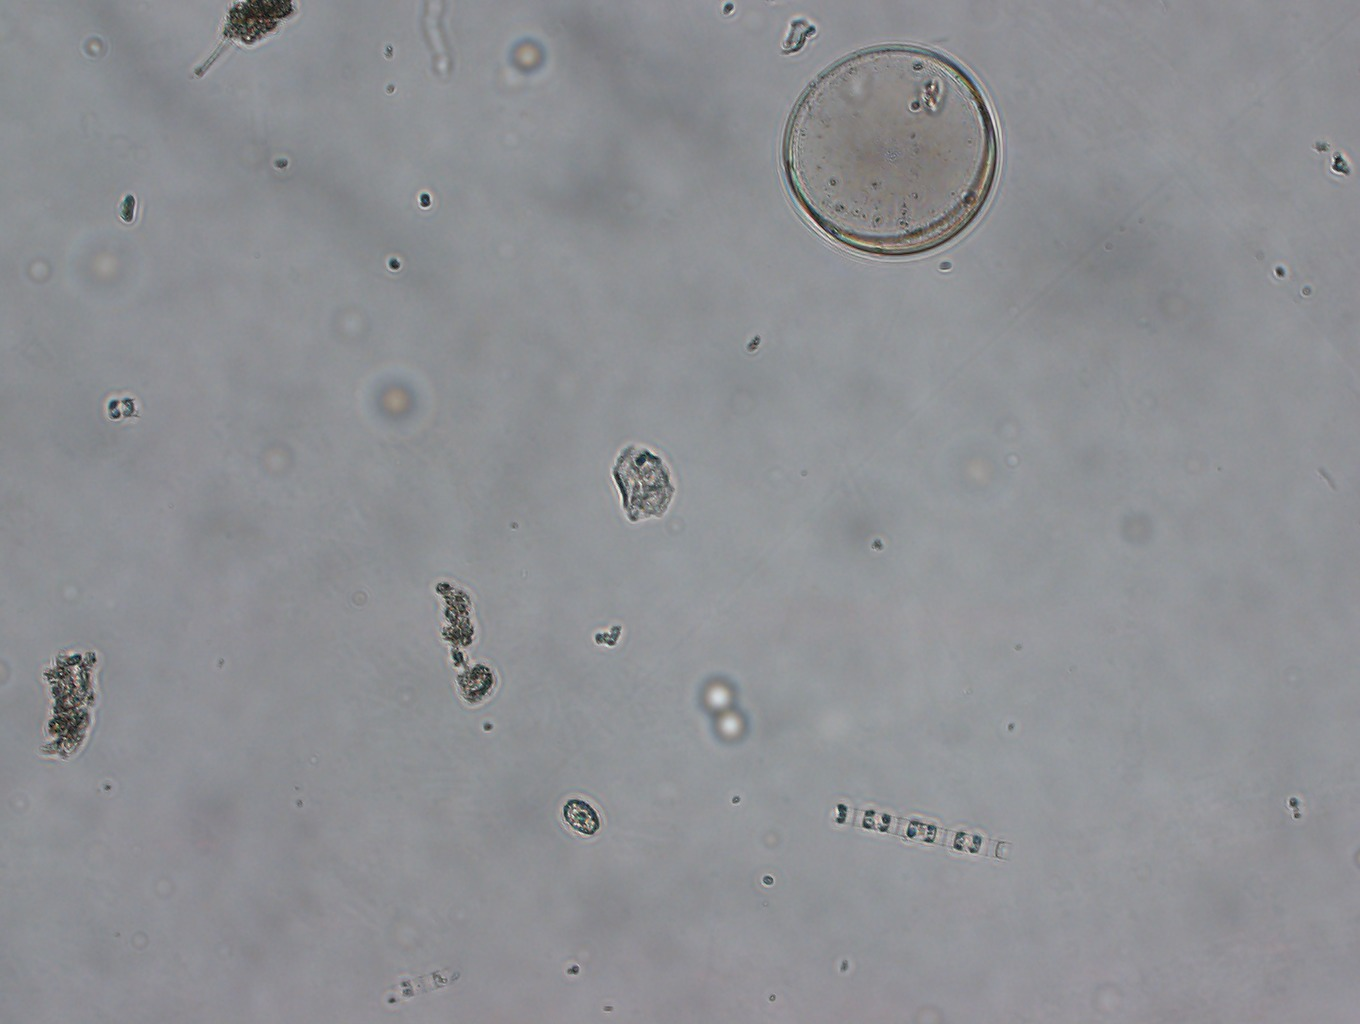coscinodiscus: (773, 34, 1006, 266)
skeletonema: (815, 791, 1017, 873)
